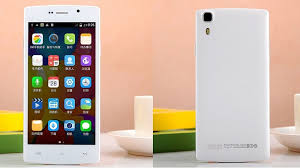bphone: (191, 6, 275, 168), (21, 5, 105, 167)
